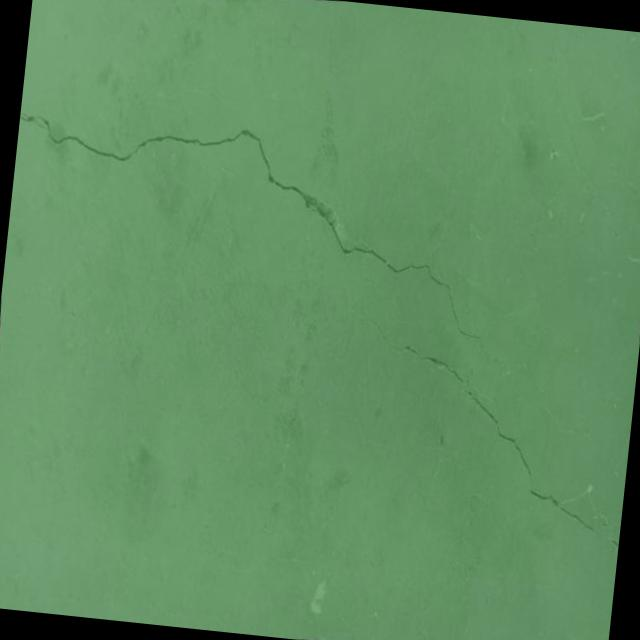crack: (0, 73, 561, 410), (353, 311, 640, 571)
